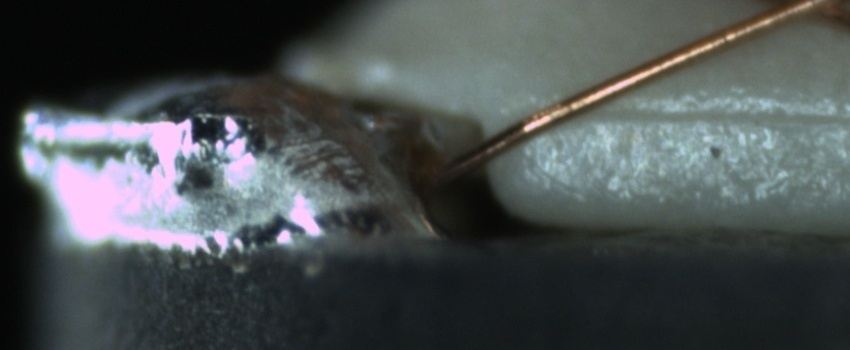CL: (746, 0, 840, 30)
DL: (565, 84, 844, 148)
